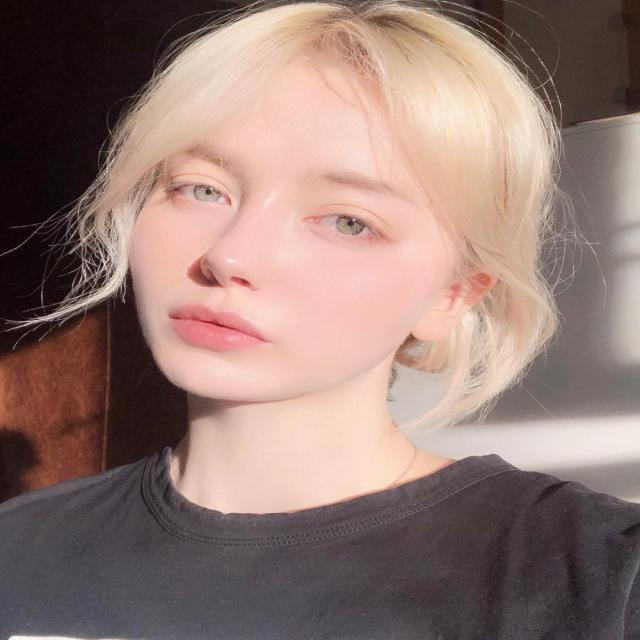earlobe: (410, 257, 502, 344)
